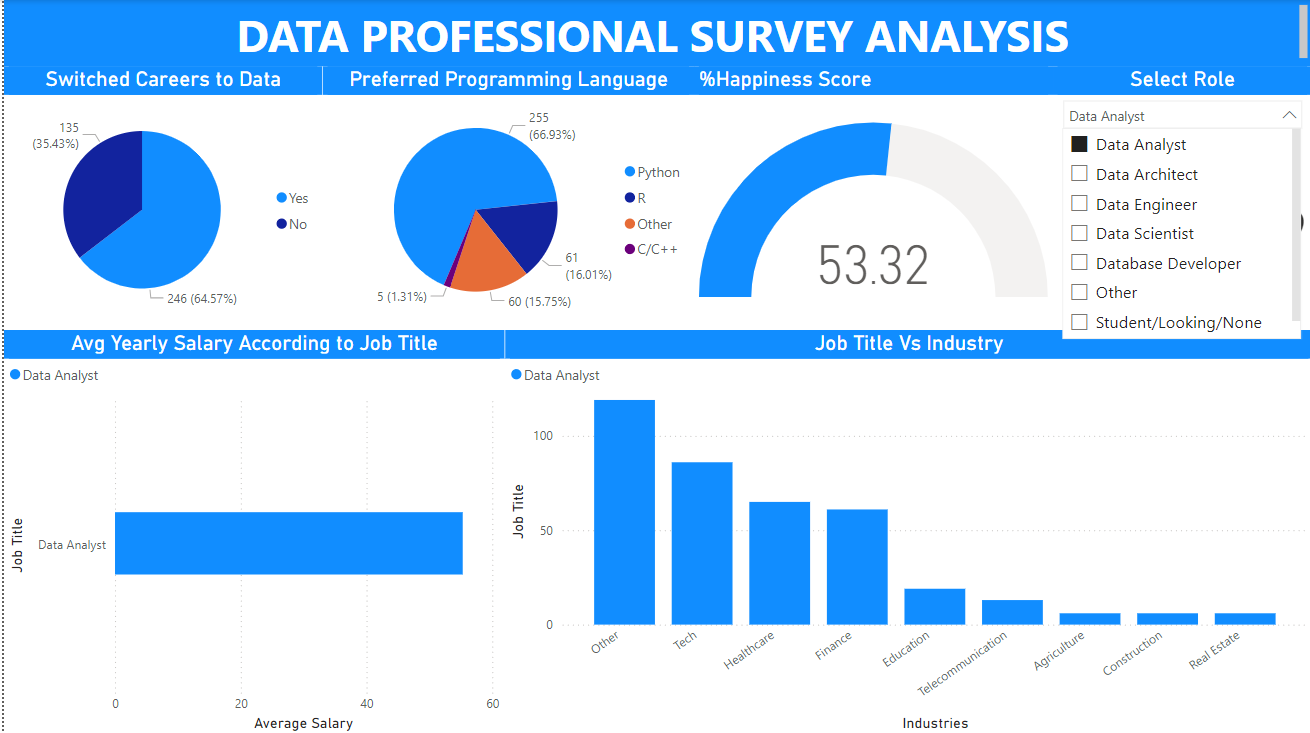

The dashboard page shown, as its layout file describes it:
{"tool":"powerbi","page":{"name":"Page 1","canvas":[1280,720],"ordinal":0},"visuals":[{"type":"card","title":"Number Of Surveys","fields":{"Values":["Count(Data Professional Survey.Unique ID)"]},"box":[1026.4,134.5,115.3,188],"z":0},{"type":"textbox","box":[0,0,1280.3,64.5],"z":1000},{"type":"card","fields":{"Values":["Avg(Data Professional Survey.Q10 - Current Age)"]},"box":[1141.7,134.5,138.6,188],"z":2000},{"type":"clusteredBarChart","title":"Avg Yearly Salary According to Job Title","fields":{"Category":["Data Professional Survey.Q1 - Which Title Best Fits your Current Role?.1"],"Y":["Avg(Data Professional Survey.Avg Salary)"],"Series":["Data Professional Survey.Q1 - Which Title Best Fits your Current Role?.1"]},"box":[0,322.5,489.9,397.9],"z":3000},{"type":"pieChart","title":"Switched Careers to Data","fields":{"Y":["CountNonNull(Data Professional Survey.Q2 - Did you switch careers into Data?)"],"Category":["Data Professional Survey.Q2 - Did you switch careers into Data?"]},"box":[0,64.5,311.5,258],"z":4000},{"type":"slicer","title":"Select Role","fields":{"Values":["Data Professional Survey.Q1 - Which Title Best Fits your Current Role?.1"]},"box":[1026.4,64.5,253.9,70],"z":5000},{"type":"pieChart","title":"Preferred Programming Language","fields":{"Y":["CountNonNull(Data Professional Survey.Q5 - Favorite Programming Language.1)"],"Category":["Data Professional Survey.Q5 - Favorite Programming Language.1"]},"box":[311.5,64.5,363.6,258],"z":6000},{"type":"clusteredColumnChart","title":"Job Title Vs Industry","fields":{"Category":["Data Professional Survey.Q4 - What Industry do you work in?.1"],"Series":["Data Professional Survey.Q1 - Which Title Best Fits your Current Role?.1"],"Y":["CountNonNull(Data Professional Survey.Q1 - Which Title Best Fits your Current Role?.1)"]},"box":[489.9,322.5,790.4,397.9],"z":7000},{"type":"gauge","title":" %Happiness Score","fields":{"Y":["Avg(Data Professional Survey.%Overall Happiness)"],"MaxValue":["Max(Data Professional Survey.%Overall Happiness)1"]},"box":[675.1,64.5,351.3,258],"z":8000}]}

Visuals, with their boxes in screenshot pixels (x1, y1, x2, y2), scaled from the page's 1280x720 canvas onto the 1310x733 screenshot:
"Number Of Surveys" card: 1050:137:1168:328
textbox: 0:0:1309:66
card - Avg(Data Professional Survey.Q10 - Current Age): 1168:137:1309:328
"Avg Yearly Salary According to Job Title" clusteredBarChart: 0:328:501:732
"Switched Careers to Data" pieChart: 0:66:319:328
"Select Role" slicer: 1050:66:1309:137
"Preferred Programming Language" pieChart: 319:66:691:328
"Job Title Vs Industry" clusteredColumnChart: 501:328:1309:732
" %Happiness Score" gauge: 691:66:1050:328
